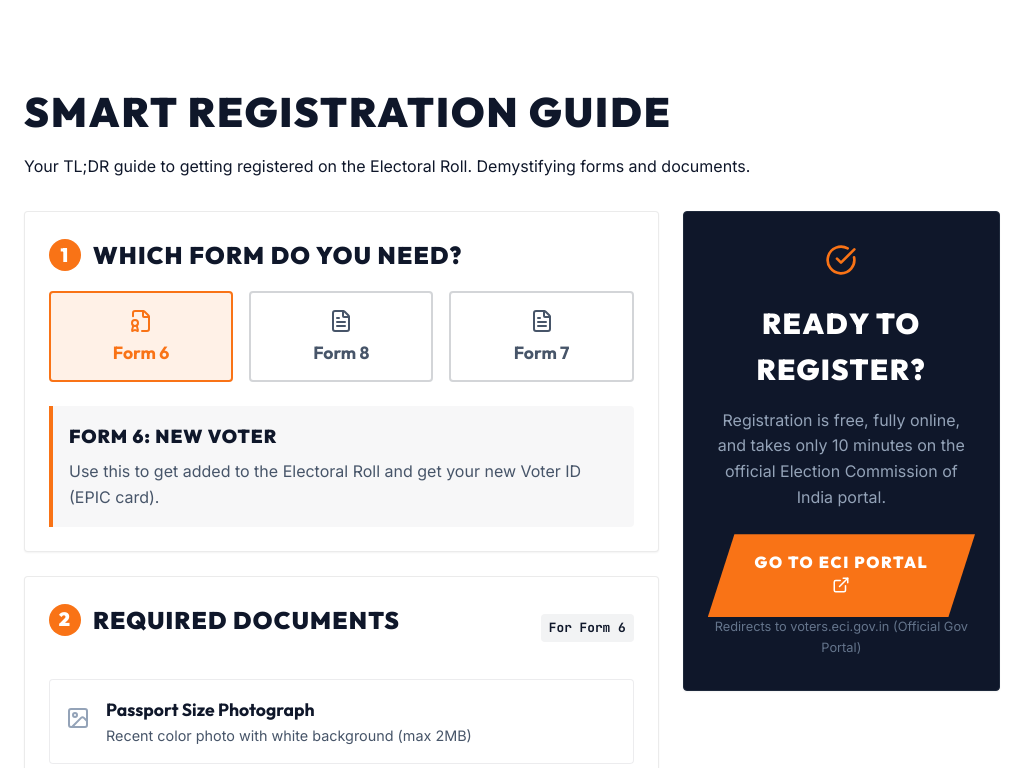
Registration Page › allows switching between forms
What coordinates should you click on to do the following:
click the button "Form 8"
I would click on:
 (341, 336)
Its box is top-left (249, 290), bottom-right (433, 382).
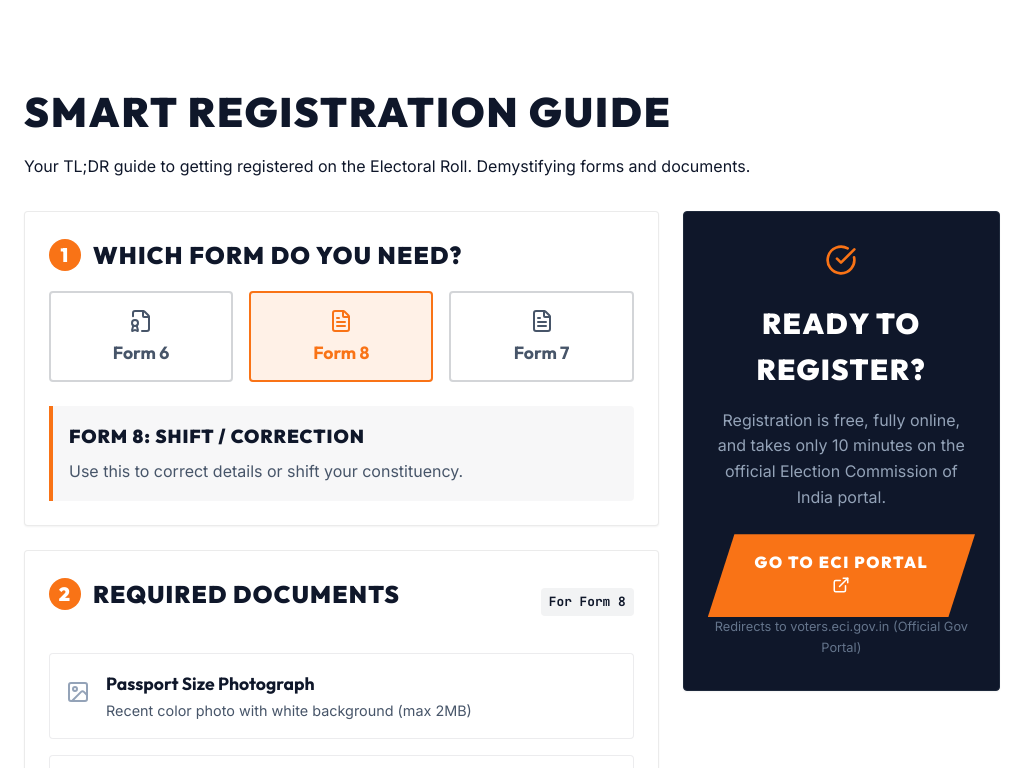
Result: the heading "Form 8: Shift / Correction" is shown at top-left (69, 424), bottom-right (365, 448)
